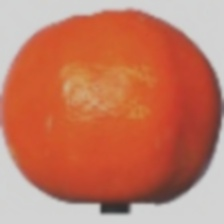tangerine: (43, 2, 215, 182)
